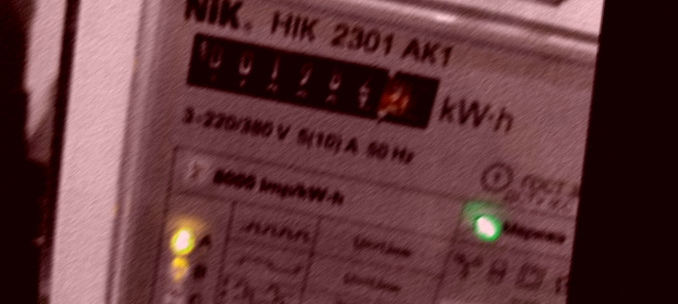0: (236, 47, 256, 78), (206, 41, 226, 71)
1: (268, 51, 283, 82)
2: (357, 65, 378, 96)
8: (327, 63, 346, 92)
9: (387, 75, 410, 106), (296, 58, 314, 88)
screen: (167, 17, 458, 147)
